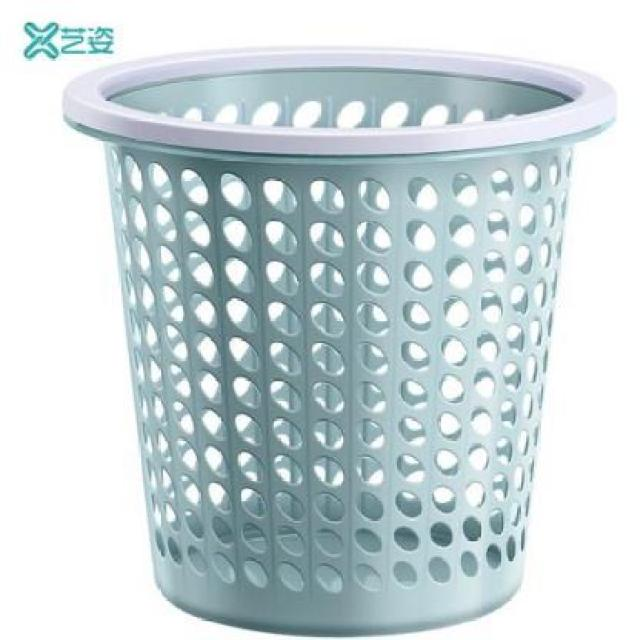dustbin: (55, 37, 622, 640)
